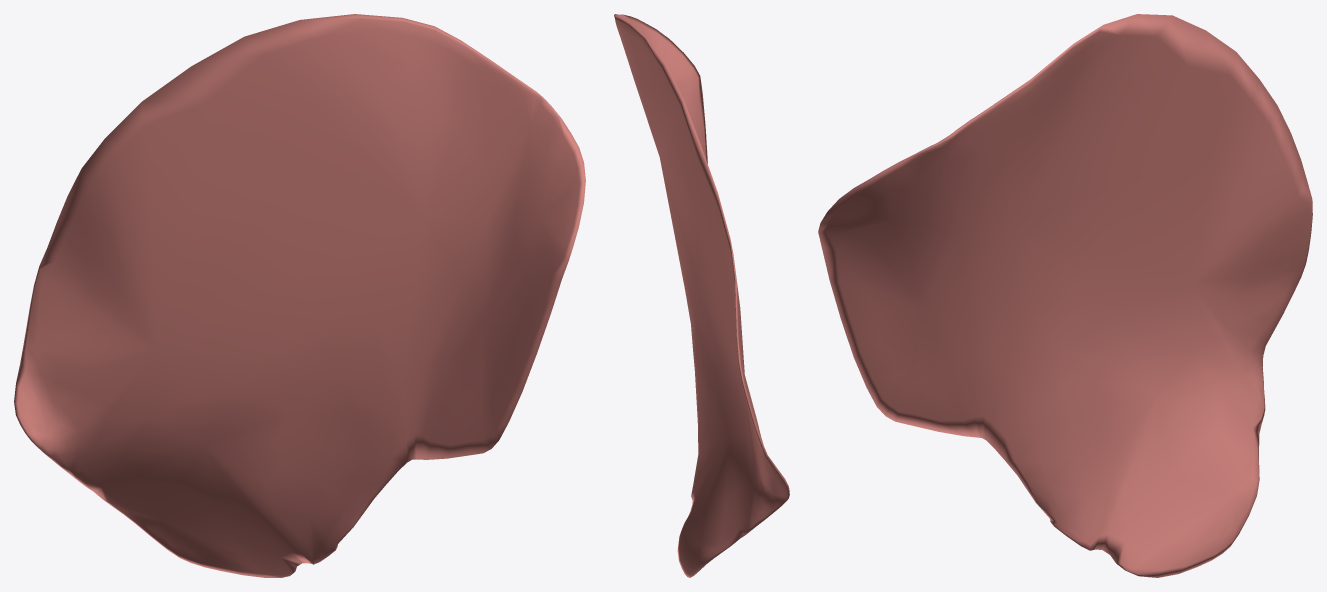
3 views of the same model, side by side, from view 1: azimuth 30°, elevation 25°; view 2: azimuth 150°, elevation 25°; view 3: azimuth 270°, elevation 25° (orthographic). The views are drawn at different scales.
Visible parts, largest first — view 1: ZA_40df0c5429a16d69; view 2: ZA_40df0c5429a16d69; view 3: ZA_40df0c5429a16d69.
Boxes of the visible parts, box(x1,y1,x2,y2) form: ZA_40df0c5429a16d69: box(14, 14, 585, 577); ZA_40df0c5429a16d69: box(614, 14, 789, 577); ZA_40df0c5429a16d69: box(818, 14, 1312, 577).
Size of the model in its own units: 0.0531 by 0.078 by 0.0596.
